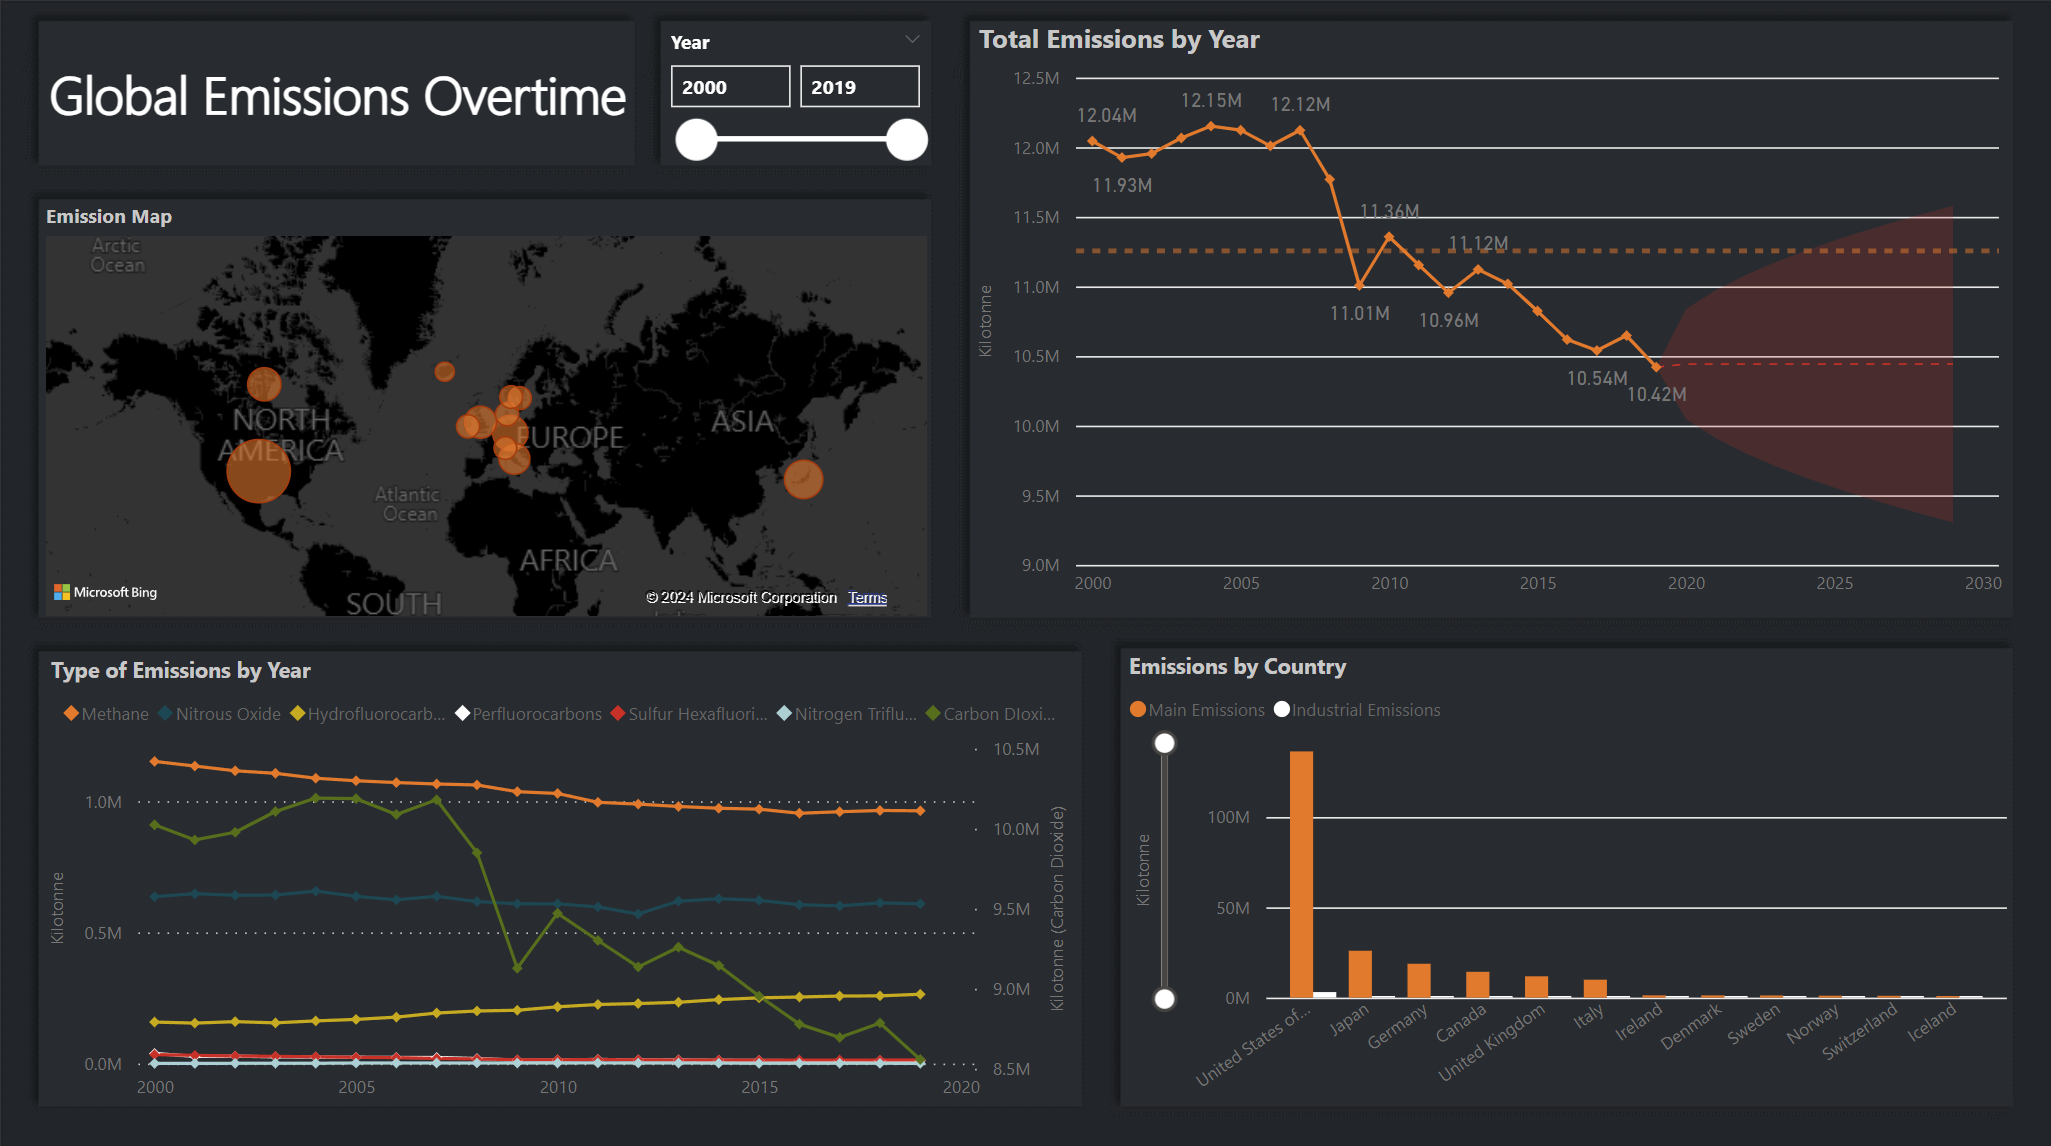

This screenshot's page, from the dashboard's own definition file:
{"tool":"powerbi","page":{"name":"Page 1","canvas":[1280,720],"ordinal":0},"visuals":[{"type":"image","box":[1.4,1.4,1279,719],"z":0},{"type":"lineChart","title":"Type of Emissions by Year","fields":{"Category":["Emissions.Year"],"Y":["Sum(Emissions.CH4 Value)","Sum(Emissions.N2O Value)","Sum(Emissions.HFCs Value)","Sum(Emissions.PFCs Value)","Sum(Emissions.SF6 Value)","Sum(Emissions.NF3 Value)"],"Y2":["Sum(Emissions.CO2 Value)"]},"box":[32.8,411.3,642.6,284.6],"z":1000},{"type":"lineChart","title":"Total Emissions by Year","fields":{"Category":["Emissions.Year"],"Y":["Sum(Emissions.Total Emissions)"]},"box":[606.6,19.3,642.8,365.4],"z":2000},{"type":"map","title":"Emission Map","fields":{"Category":["Emissions.Country"],"Size":["Sum(Emissions.Total Emissions)"]},"box":[29.8,131.2,554.8,260.6],"z":3000},{"type":"textbox","box":[26.5,36.7,377.5,55],"z":4000},{"type":"clusteredColumnChart","title":"Emissions by Country","fields":{"Category":["Emissions.Country"],"Y":["Sum(Emissions.Main Emissions)","Sum(Emissions.Industrial Emissions)"]},"box":[699.5,408.8,552.6,293.1],"z":5000},{"type":"slicer","fields":{"Values":["Emissions.Year"]},"box":[408.4,18.3,179.7,113.4],"z":6000}]}

Visuals, with their boxes in screenshot pixels (x1, y1, x2, y2), scaled from the page's 1280x720 canvas onto the 2051x1146 screenshot:
image: (2,2,2050,1145)
"Type of Emissions by Year" lineChart: (53,655,1082,1108)
"Total Emissions by Year" lineChart: (972,31,2002,612)
"Emission Map" map: (48,209,937,624)
textbox: (42,58,647,146)
"Emissions by Country" clusteredColumnChart: (1121,651,2006,1117)
slicer - Emissions.Year: (654,29,942,210)
